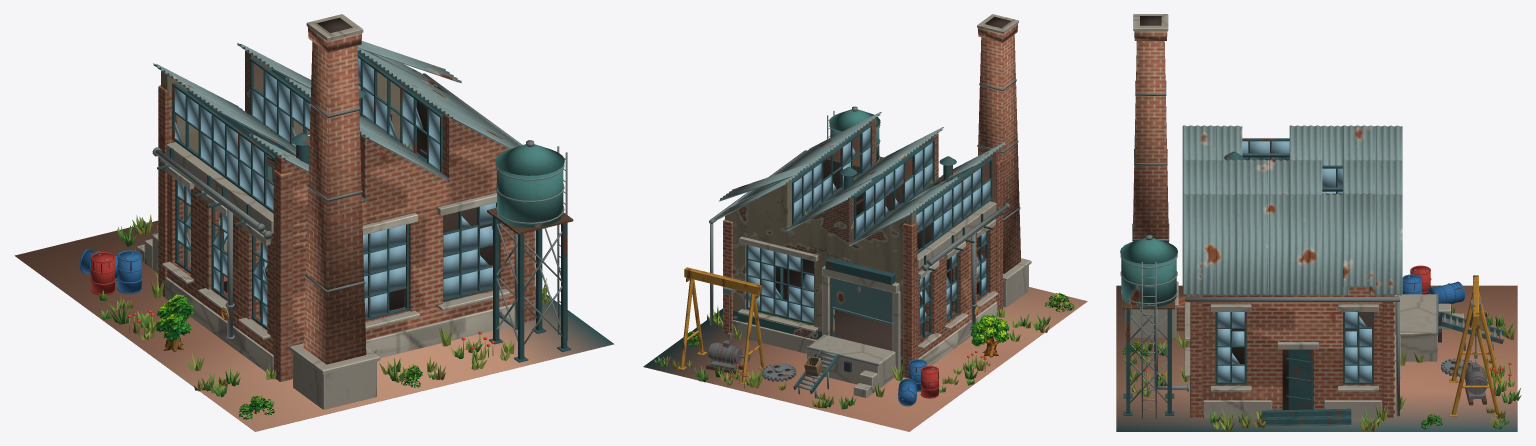
File: Lot_Fabrica.fbx
3 renders of one model, left to right at view 1: azimuth 30°, elevation 25°; view 2: azimuth 150°, elevation 25°; view 3: azimuth 270°, elevation 25°, orthographic. The views are drawn at different scales.
Parts seen in each view (by area): view 1: FAB_house, FAB_stack, FAB_pad, FAB_roof, FAB_green, FAB_junk; view 2: FAB_house, FAB_pad, FAB_stack, FAB_roof, FAB_junk, FAB_green; view 3: FAB_roof, FAB_house, FAB_pad, FAB_stack, FAB_junk, FAB_green.
Part boxes in pixels (x1,y1,x2,y2): FAB_house: (137,51,535,381); FAB_stack: (289,14,573,409); FAB_pad: (14,220,614,431); FAB_roof: (153,41,522,201); FAB_green: (99,214,551,419); FAB_junk: (79,215,220,295); FAB_house: (723,118,1009,397); FAB_pad: (643,287,1087,431); FAB_stack: (827,14,1031,307); FAB_roof: (709,112,1005,325); FAB_junk: (677,267,939,406); FAB_green: (654,292,1074,409); FAB_roof: (1182,125,1402,416); FAB_house: (1184,138,1464,418); FAB_pad: (1116,285,1517,431); FAB_stack: (1120,14,1188,418); FAB_junk: (1261,265,1503,425); FAB_green: (1122,303,1521,431).
Bounding box in the file's own units: 10.22 × 9.76 × 11.72.
1 material, 1 textured.
